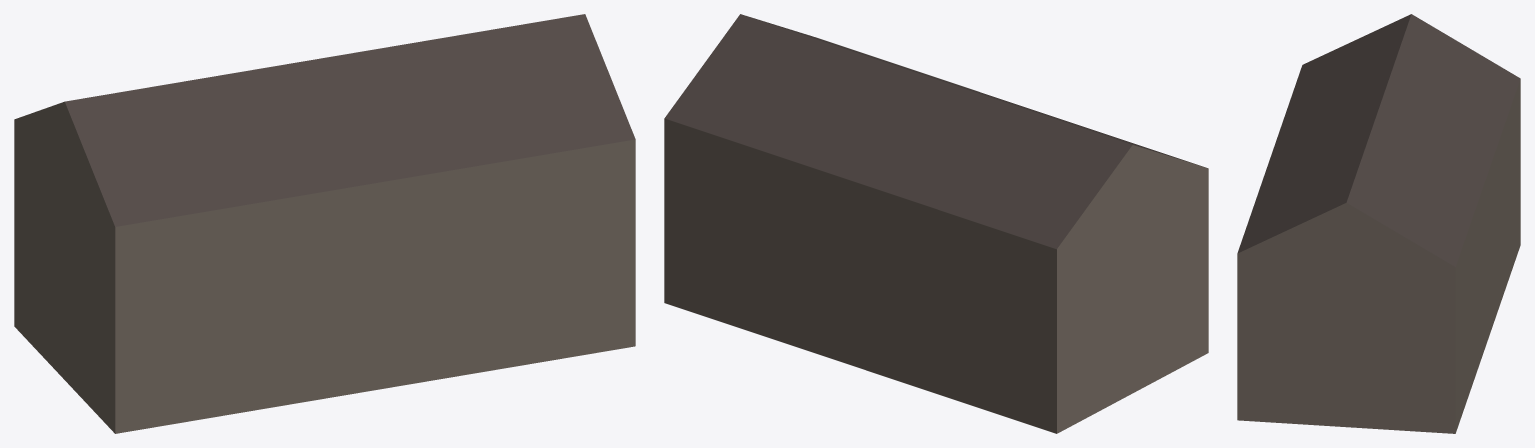
3 views of the same model, side by side, from view 1: azimuth 30°, elevation 25°; view 2: azimuth 150°, elevation 25°; view 3: azimuth 270°, elevation 25° (orthographic). The views are drawn at different scales.
Visible parts, largest first — view 1: HP-w494389730; view 2: HP-w494389730; view 3: HP-w494389730.
Boxes of the visible parts, left/top/right/bottom form: HP-w494389730: left=14, top=14, right=635, bottom=433; HP-w494389730: left=664, top=14, right=1208, bottom=433; HP-w494389730: left=1237, top=14, right=1520, bottom=433.
Bounding box in the file's own units: 23.42 × 12.12 × 13.86.
